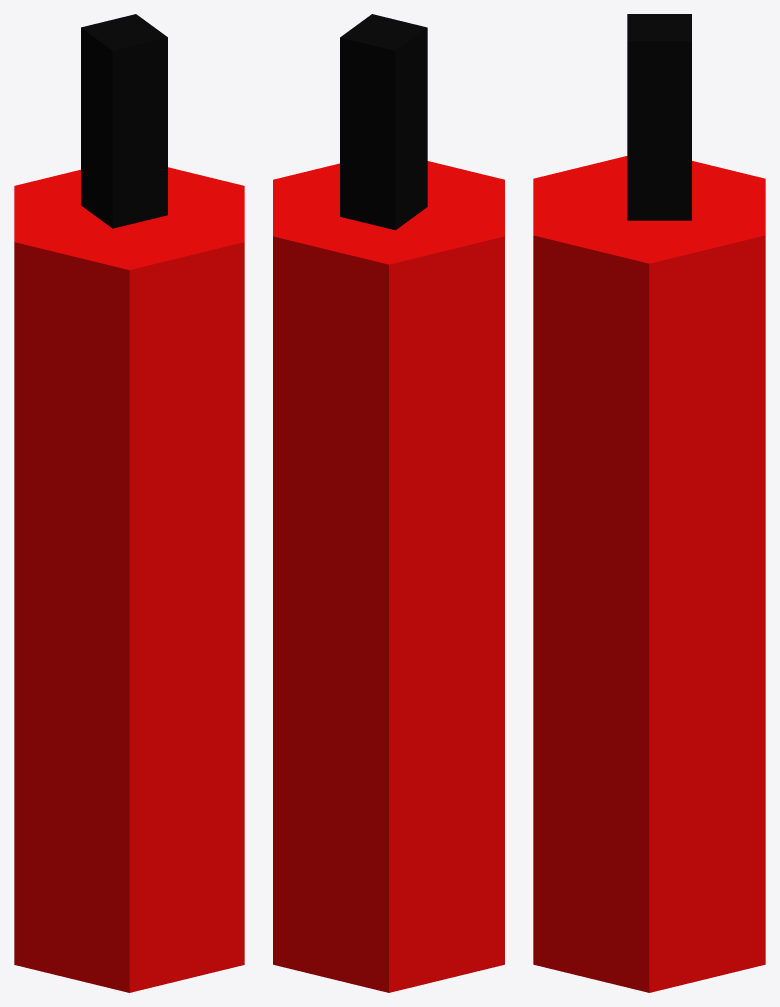
Rendered from kynttila1_red.FBX.
3 renders of one model, left to right at view 1: azimuth 30°, elevation 25°; view 2: azimuth 150°, elevation 25°; view 3: azimuth 270°, elevation 25°, orthographic.
Parts seen in each view (by area): view 1: Kynttila1_red; view 2: Kynttila1_red; view 3: Kynttila1_red.
Boxes of the visible parts, <box> form: Kynttila1_red: <box>14,14,244,992</box>; Kynttila1_red: <box>273,14,504,992</box>; Kynttila1_red: <box>533,14,765,992</box>.
Size of the model in its own units: 10 by 37.38 by 8.66.
